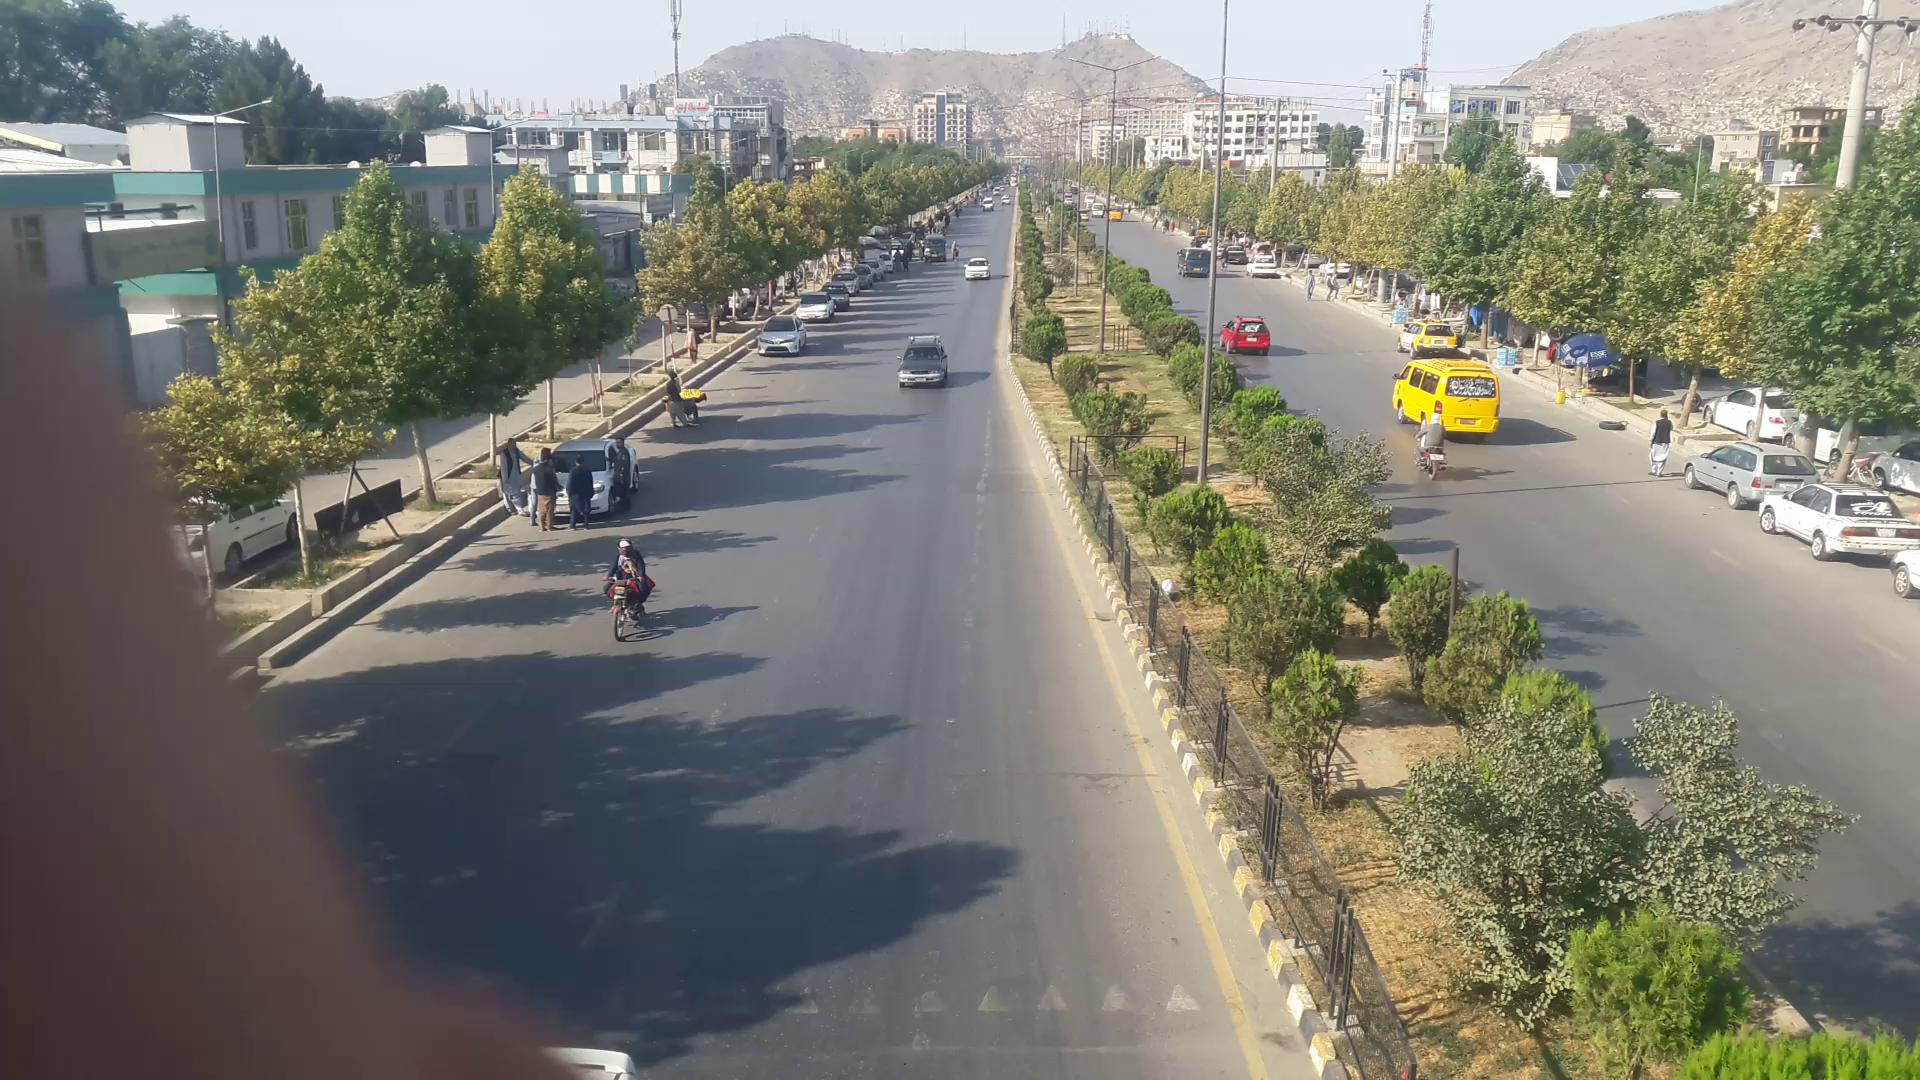bus: (1392, 359, 1507, 435)
car: (1765, 481, 1917, 561), (1683, 445, 1826, 508), (895, 342, 951, 387), (762, 319, 810, 356), (1220, 318, 1270, 353), (795, 295, 839, 319), (959, 260, 992, 281)
